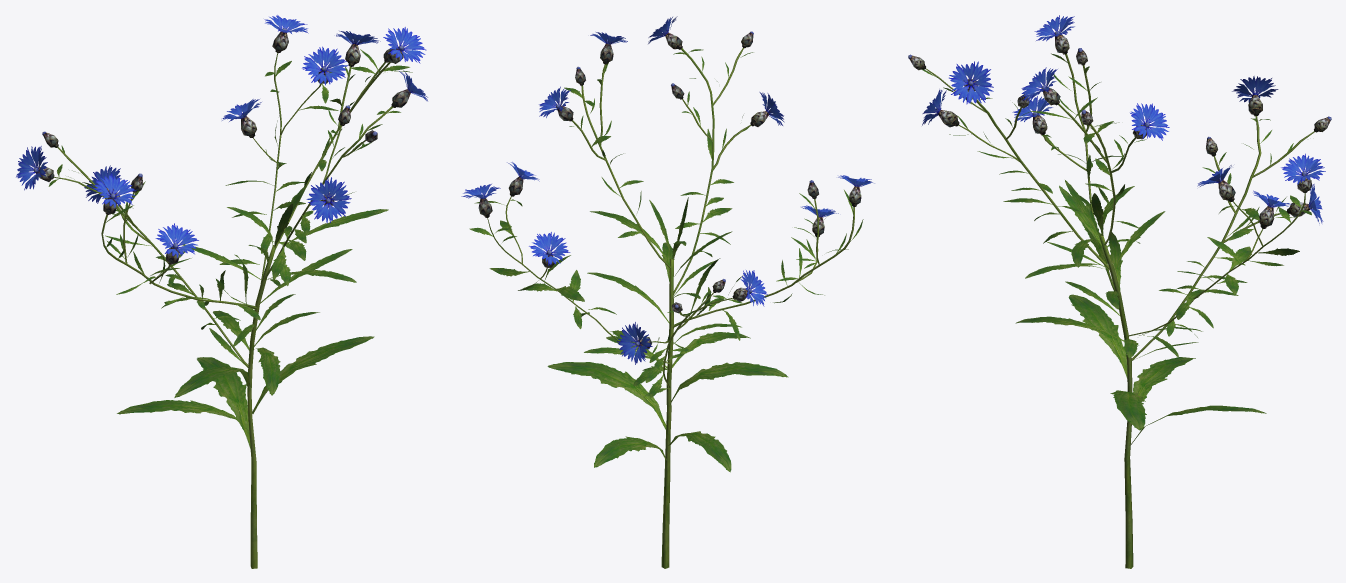
File: SM_Flowers.fbx
3 renders of one model, left to right at view 1: azimuth 30°, elevation 25°; view 2: azimuth 150°, elevation 25°; view 3: azimuth 270°, elevation 25°, orthographic. The views are drawn at different scales.
Parts seen in each view (by area): view 1: SM_Flowers; view 2: SM_Flowers; view 3: SM_Flowers.
Part boxes in pixels (x1,y1,x2,y2): SM_Flowers: [16, 15, 427, 568]; SM_Flowers: [461, 16, 874, 568]; SM_Flowers: [908, 15, 1331, 568].
Size of the model in its own units: 51.07 by 76.27 by 53.25.
